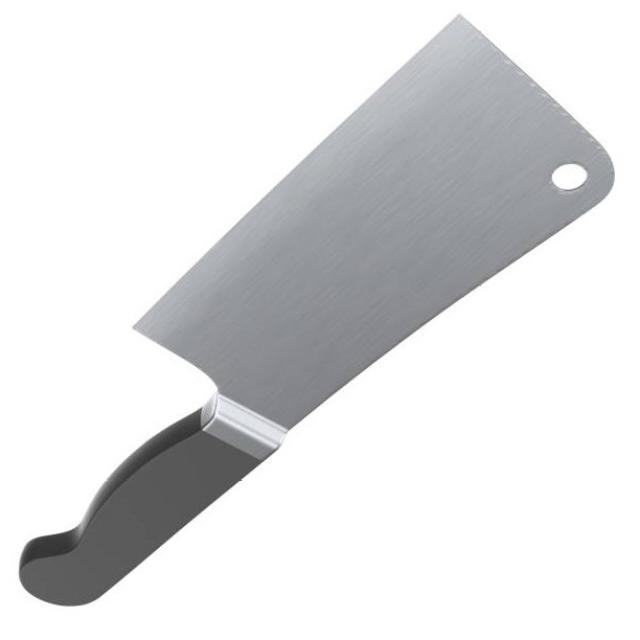knife: (20, 13, 620, 613)
